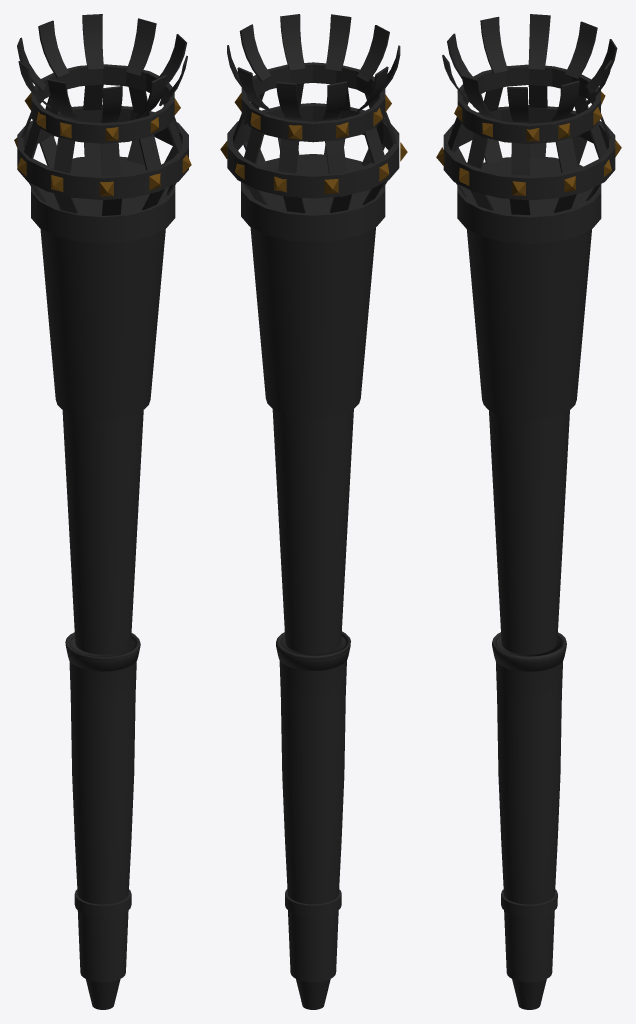
File: torch2.FBX
The picture shows the model from 3 angles, left to right: view 1: azimuth 30°, elevation 25°; view 2: azimuth 150°, elevation 25°; view 3: azimuth 270°, elevation 25°; orthographic projection.
Parts seen in each view (by area): view 1: Cone002, Cone004, Cone003, Cylinder001, Cylinder003, Cylinder004, Box043, Box052, Box045, Cone001, Box044, Box051 (+6 smaller); view 2: Cone002, Cone004, Cone003, Cylinder001, Cylinder003, Cylinder004, Box046, Box048, Box044, Box050, Cone001, Box045 (+6 smaller); view 3: Cone002, Cone004, Cone003, Cylinder001, Cylinder003, Cylinder004, Box049, Box051, Box047, Cone001, Box050, Box052 (+7 smaller).
Part boxes in pixels (box(x1,y1,x2,y2)): Cone002: box(65, 632, 140, 982); Cone004: box(40, 228, 165, 419); Cone003: box(62, 410, 143, 654); Cylinder001: box(31, 156, 175, 243); Cylinder003: box(17, 104, 188, 199); Cylinder004: box(31, 64, 174, 143); Box043: box(82, 14, 103, 69); Box052: box(126, 18, 156, 75); Box045: box(38, 20, 68, 77); Cone001: box(86, 979, 120, 1009); Box044: box(101, 86, 122, 122); Box051: box(47, 78, 78, 118); Cone002: box(276, 631, 350, 982); Cone004: box(250, 227, 375, 418); Cone003: box(272, 409, 353, 653); Cylinder001: box(241, 154, 385, 242); Cylinder003: box(227, 103, 399, 198); Cylinder004: box(241, 62, 385, 142); Box046: box(325, 14, 351, 71); Box048: box(280, 14, 305, 70); Box044: box(356, 25, 389, 81); Box050: box(239, 24, 271, 81); Cone001: box(296, 979, 330, 1009); Box045: box(276, 82, 301, 118); Cone002: box(492, 632, 566, 982); Cone004: box(466, 229, 591, 419); Cone003: box(489, 410, 569, 654); Cylinder001: box(457, 157, 601, 243); Cylinder003: box(443, 105, 615, 200); Cylinder004: box(457, 64, 600, 143); Box049: box(528, 14, 550, 70); Box051: box(480, 16, 508, 73); Box047: box(565, 21, 597, 78); Cone001: box(512, 979, 546, 1009); Box050: box(507, 87, 529, 121); Box052: box(552, 80, 579, 120).
Size of the model in its own units: 17.27 by 97.87 by 17.26.
